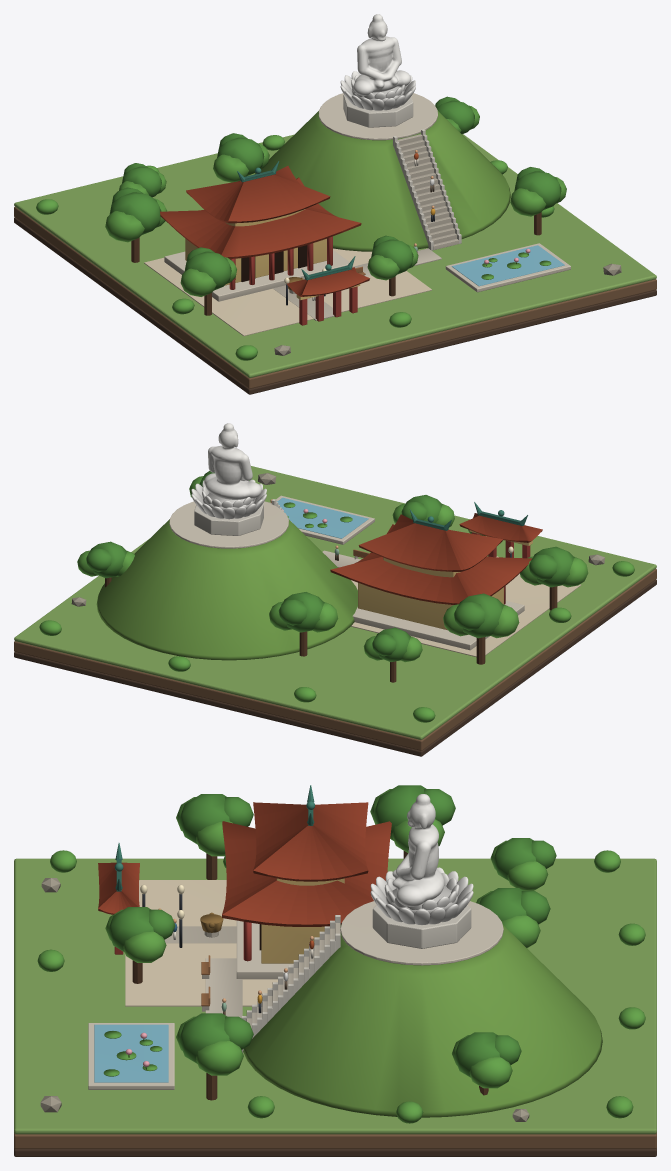
Rendered from chua-long-son.glb.
3 renders of one model, top to bottom at view 1: azimuth 30°, elevation 25°; view 2: azimuth 150°, elevation 25°; view 3: azimuth 270°, elevation 25°, orthographic. The views are drawn at different scales.
Parts seen in each view (by area): view 1: LS_bench_back, LS_buddha; view 2: LS_bench_back, LS_buddha; view 3: LS_bench_back, LS_buddha.
Part boxes in pixels (left/top/right/bottom): LS_bench_back: left=14, top=71, right=656, bottom=394; LS_buddha: left=160, top=14, right=410, bottom=296; LS_bench_back: left=14, top=466, right=656, bottom=756; LS_buddha: left=204, top=423, right=542, bottom=604; LS_bench_back: left=14, top=785, right=656, bottom=1156; LS_buddha: left=98, top=794, right=444, bottom=926.
Size of the model in its own units: 52 by 24.7 by 52.
Materials: 2 (2 with a texture image).
